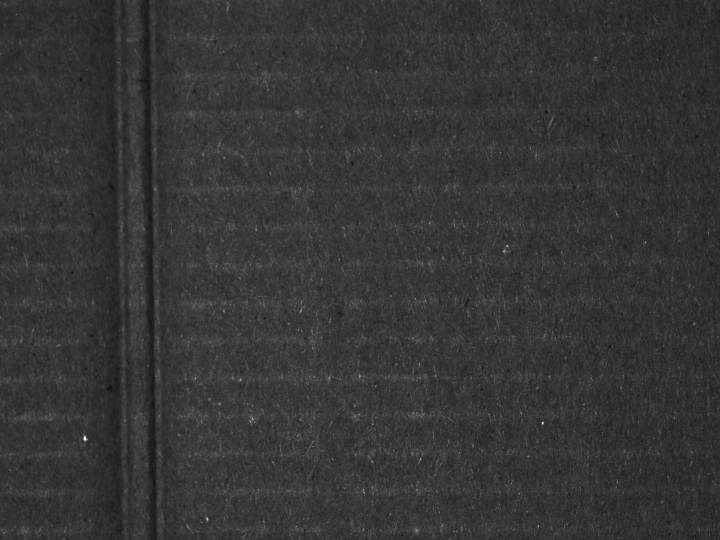press2: (96, 2, 180, 540)
